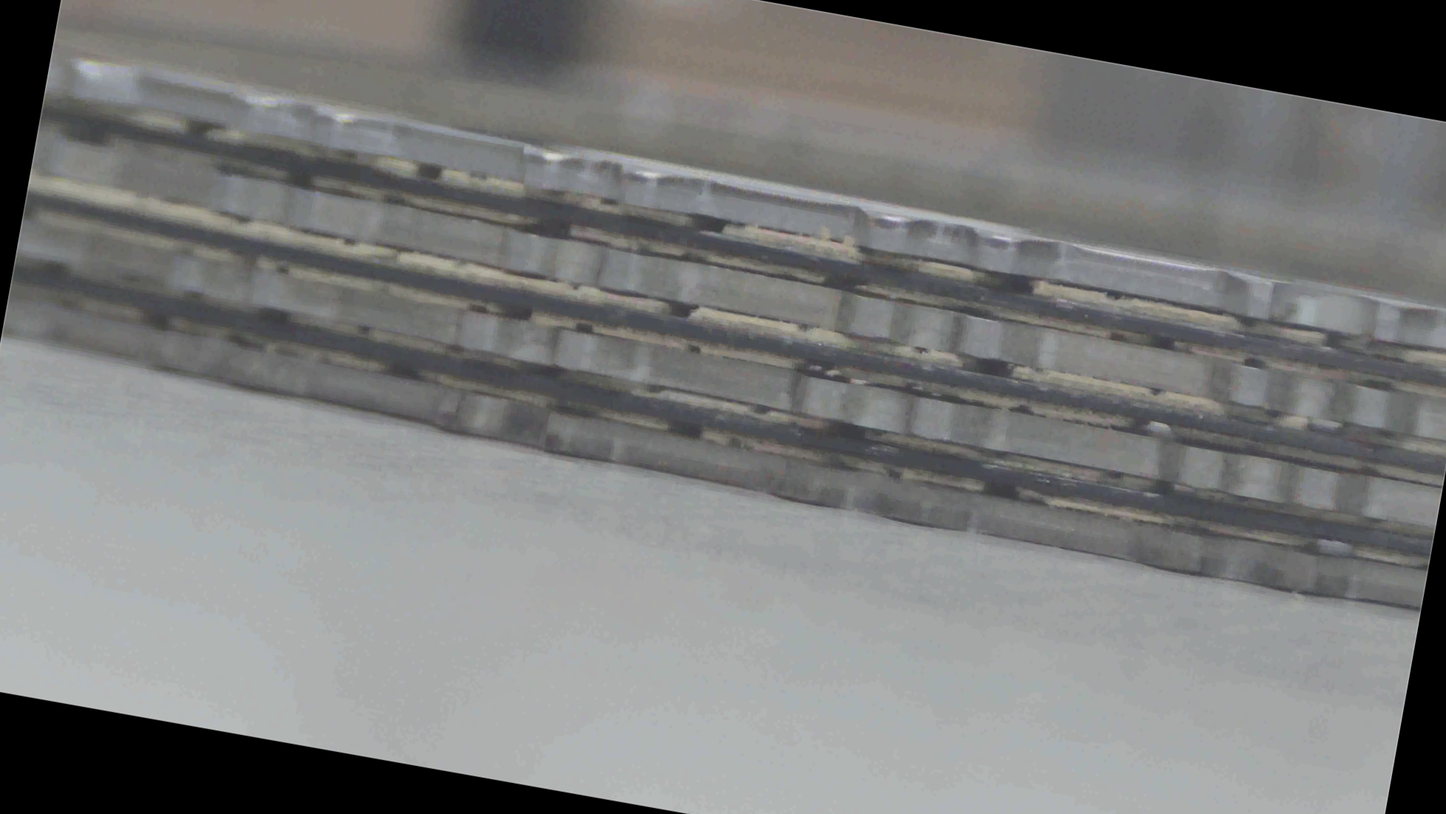Black metal plate: (3, 300, 1427, 609)
shiney metal plate: (15, 149, 1404, 603), (90, 0, 1446, 452), (14, 210, 1446, 366)
spacer: (65, 101, 1434, 572), (0, 115, 1393, 381), (0, 388, 1445, 436)
